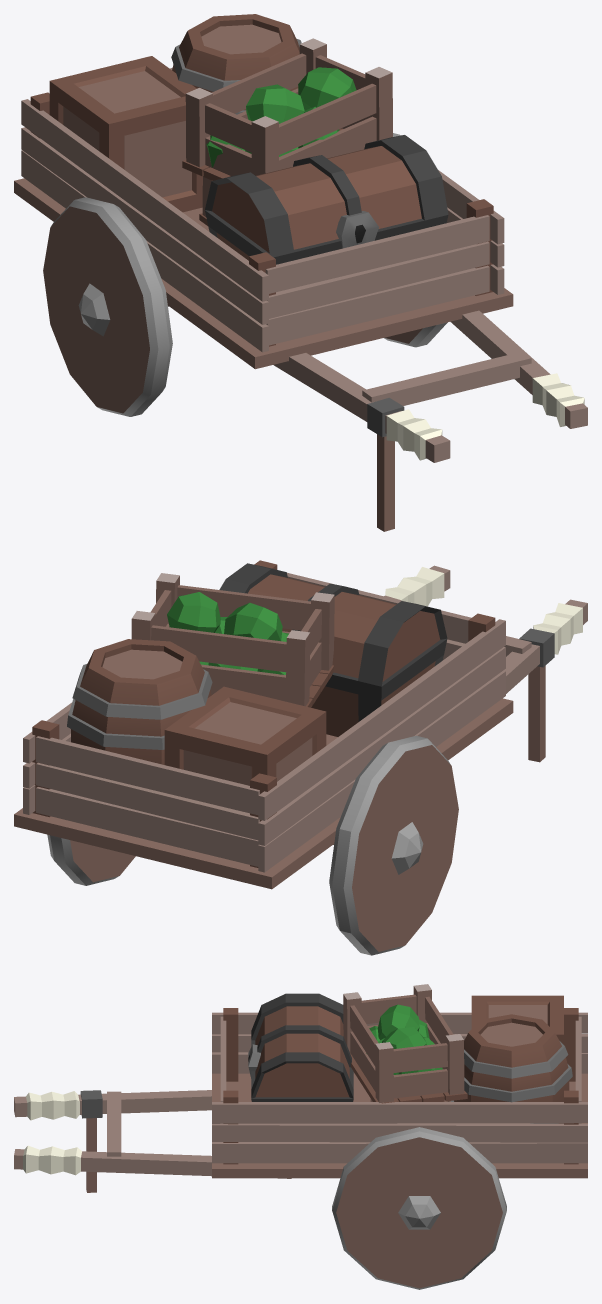
Rendered from props_070.glb.
The picture shows the model from 3 angles, top to bottom: view 1: azimuth 30°, elevation 25°; view 2: azimuth 150°, elevation 25°; view 3: azimuth 270°, elevation 25°; orthographic projection. The views are drawn at different scales.
Visible parts, largest first — view 1: props_070; view 2: props_070; view 3: props_070.
Part boxes in pixels (x1,y1,x2,y2): props_070: (14,14,587,531); props_070: (14,560,587,955); props_070: (14,984,587,1289).
Bounding box in the file's own units: 3.94 × 3.27 × 7.4.
Materials: 1 (1 with a texture image).
